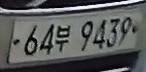3: (107, 17, 120, 48)
4: (40, 23, 54, 56), (94, 18, 107, 50)
6: (23, 24, 39, 57)
9: (76, 18, 94, 54), (119, 15, 133, 48)
부: (55, 23, 72, 55)
